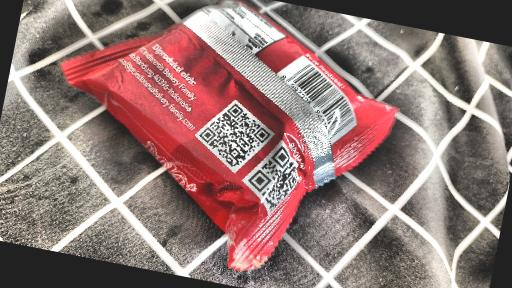momotaro: (29, 0, 434, 281)
